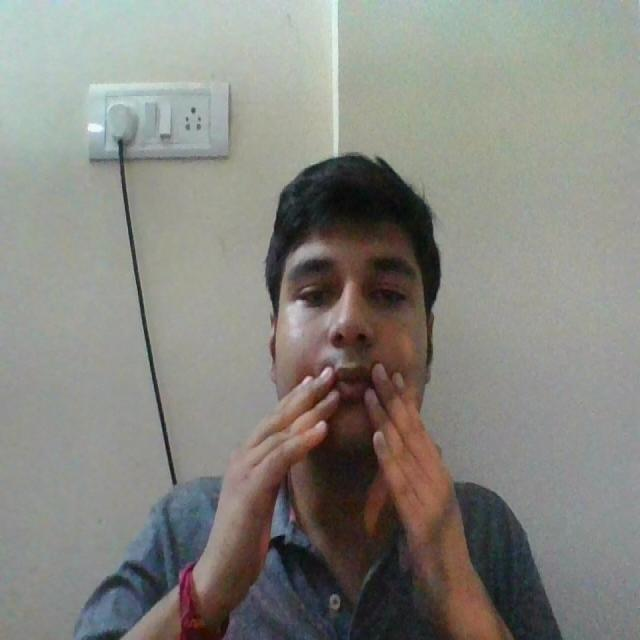Thanks: (206, 351, 501, 640)
